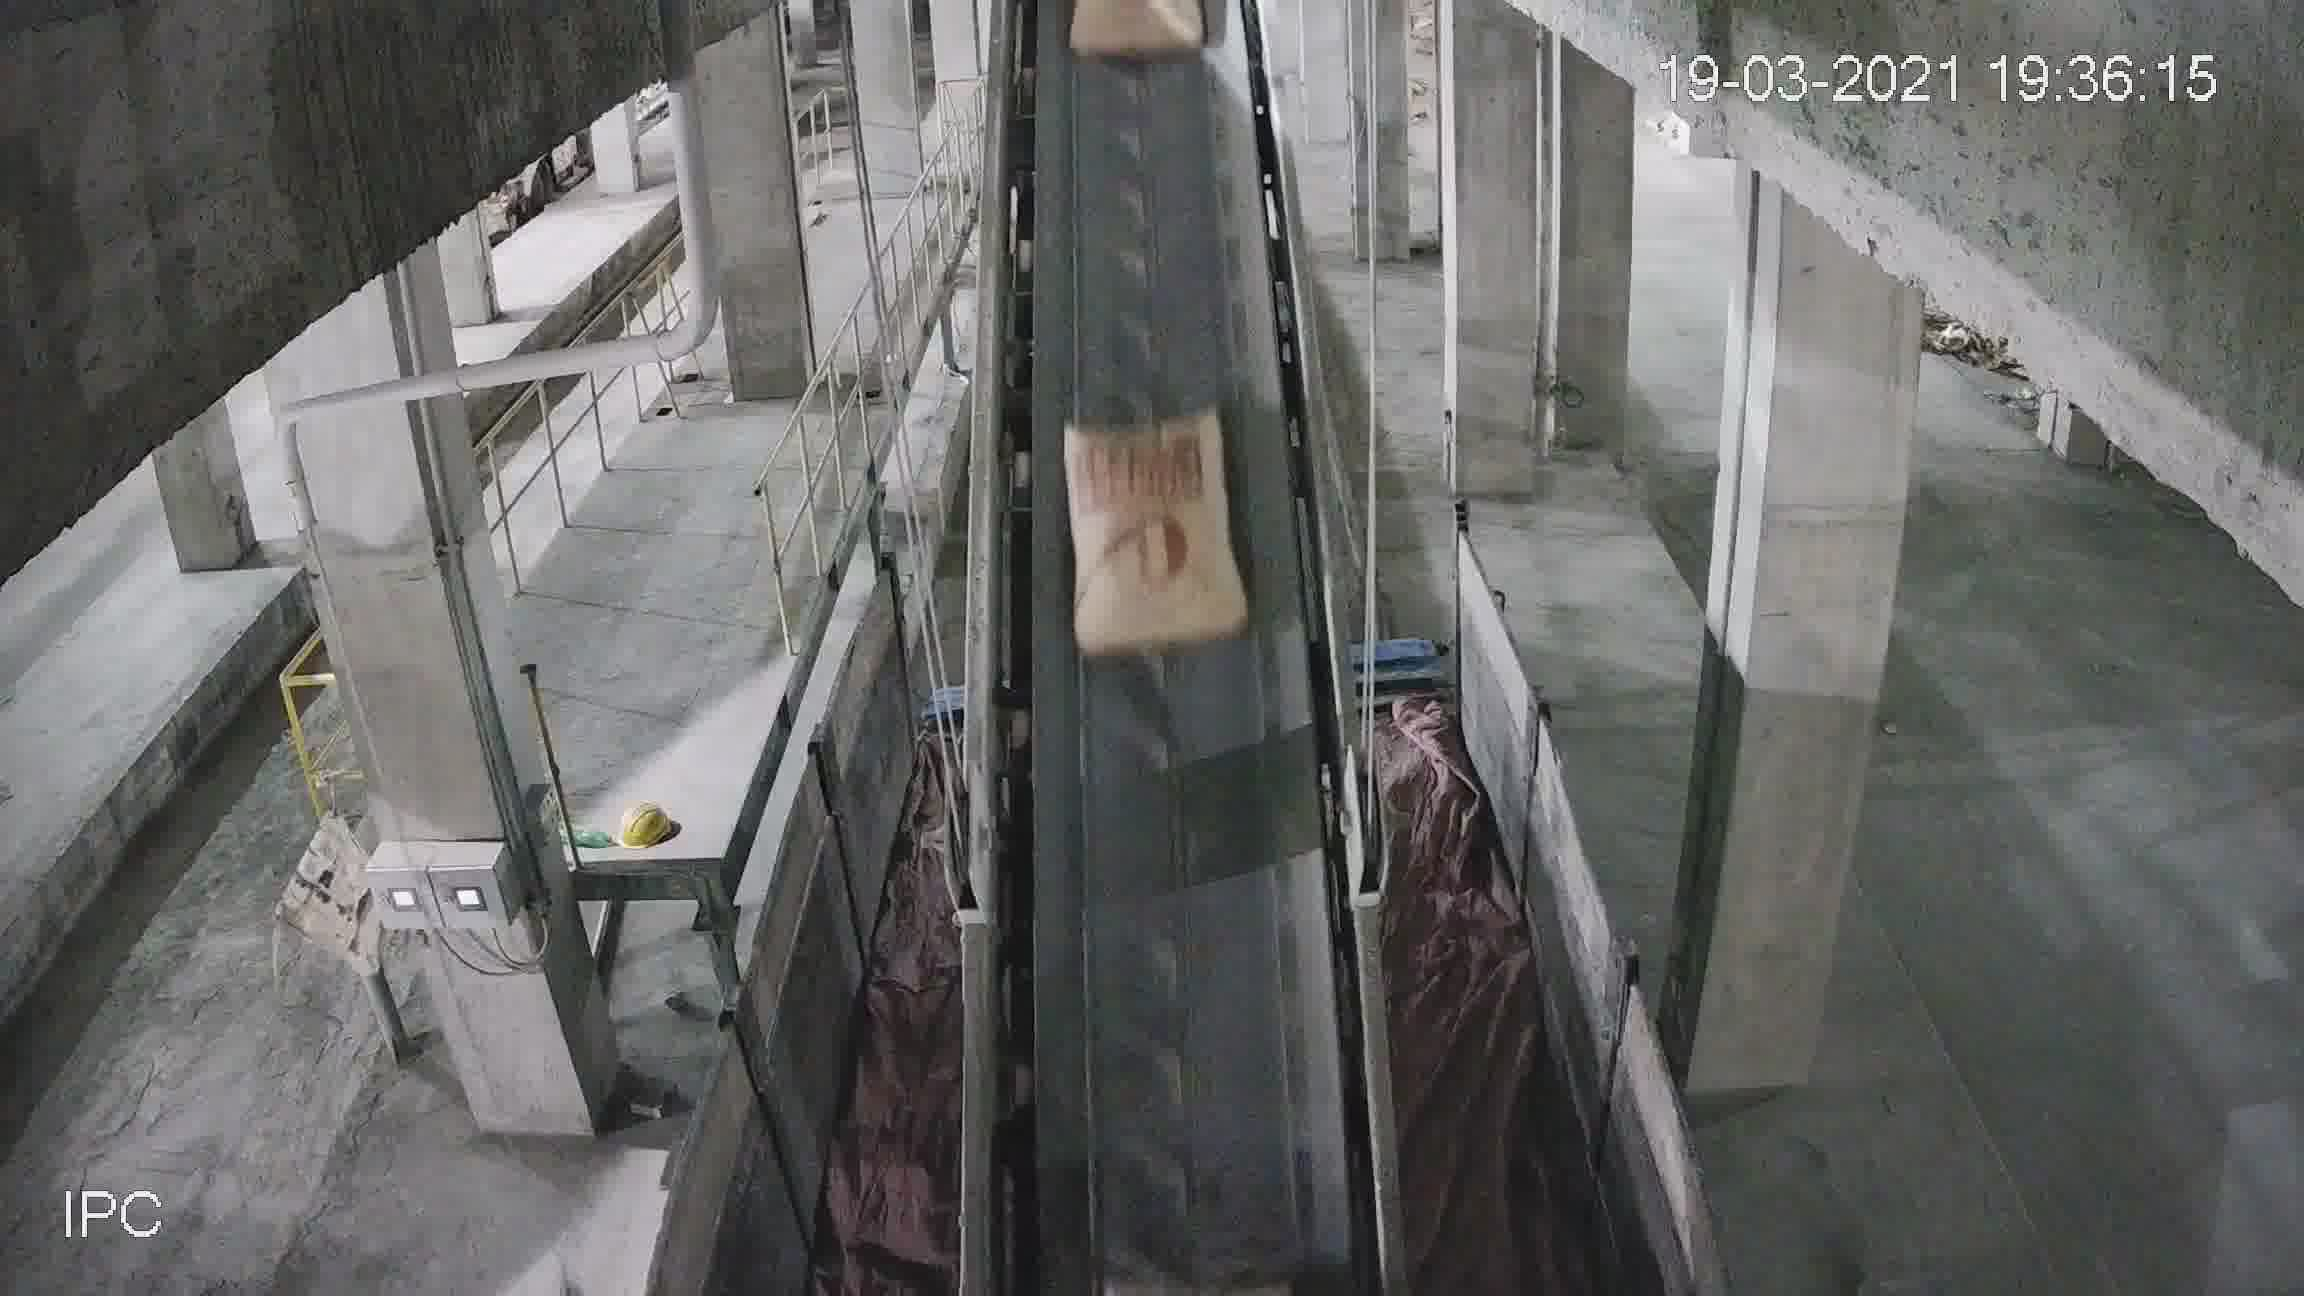bag: (1063, 404, 1239, 652), (1068, 3, 1207, 81)
belt: (962, 76, 1381, 1266)
